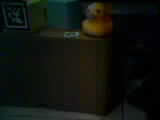duck: (75, 5, 120, 43)
